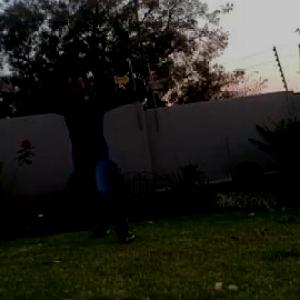takeoff: (11, 66, 169, 248)
